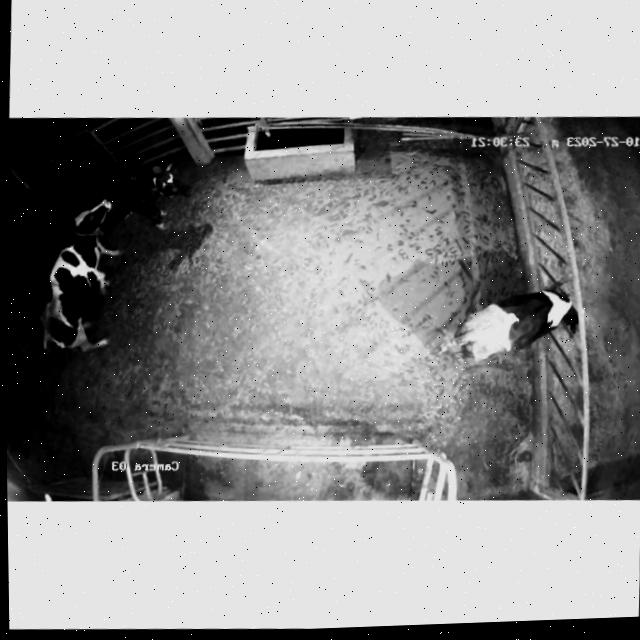propping: (55, 185, 123, 263)
